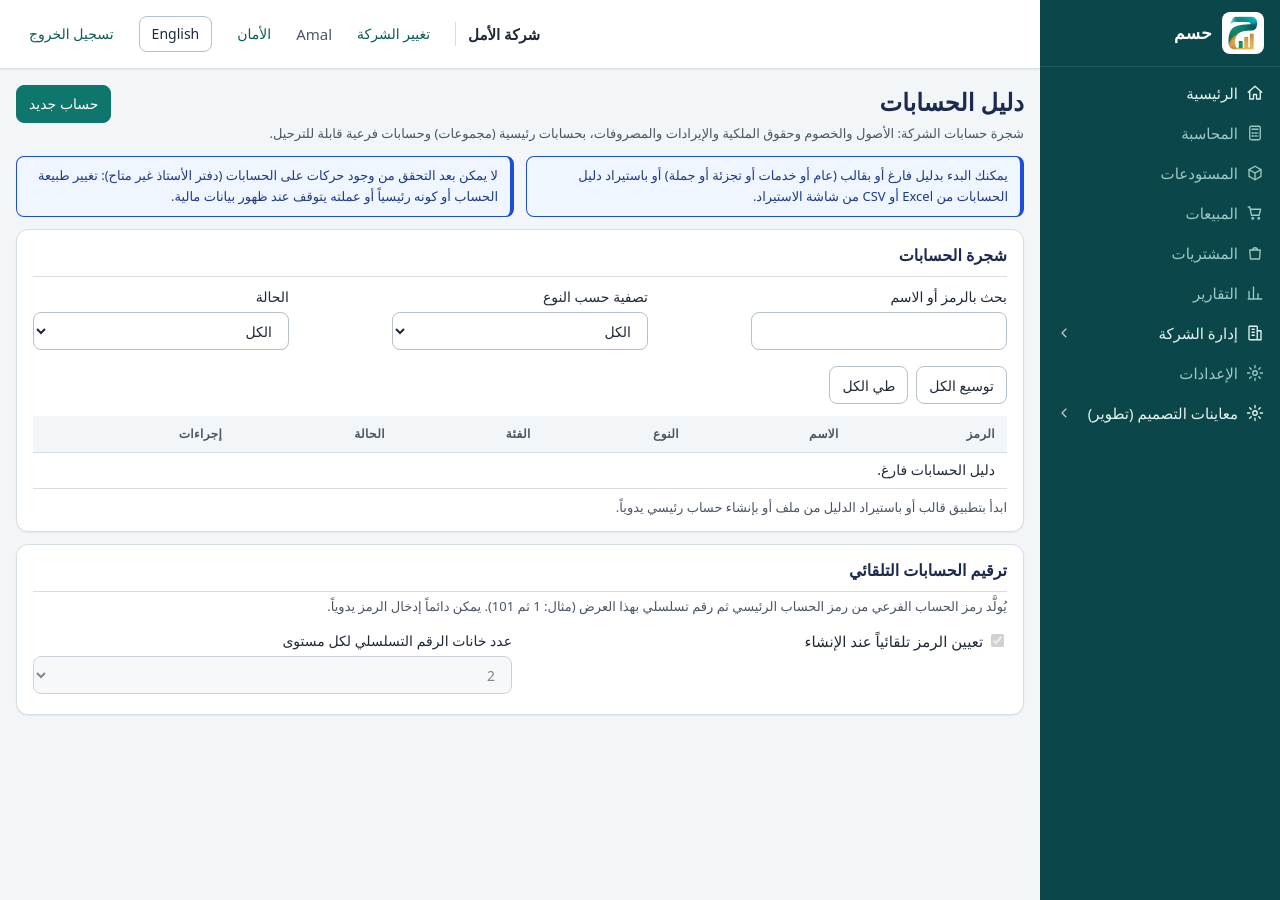
Test case: MFA step-up dialog › a stale proof opens the dialog, a good code repeats the SAME request once and the action completes without ending the session
Expected: the element with test id "company-name" is shown, [455, 22, 540, 46]
Step 1. Click the button "حساب جديد" → (64, 104), box [16, 85, 112, 123]
(page scrolled)
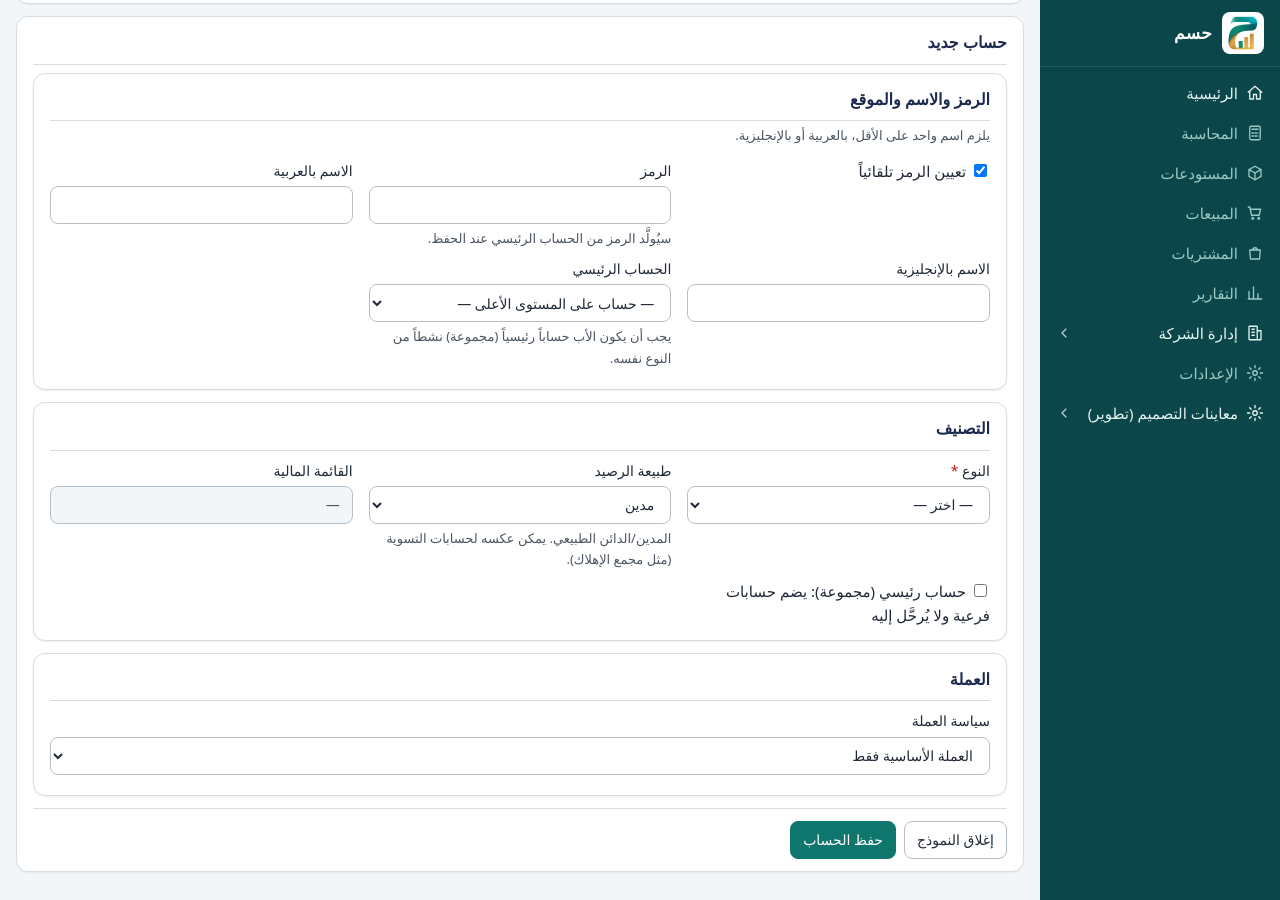
Step 2. Select "خصوم" in the dropdown labelled "النوع *" → (839, 505), box [687, 486, 990, 524]
Step 3. Type "الخصوم" into the field labelled "الاسم بالعربية" → (201, 205), box [50, 186, 353, 224]
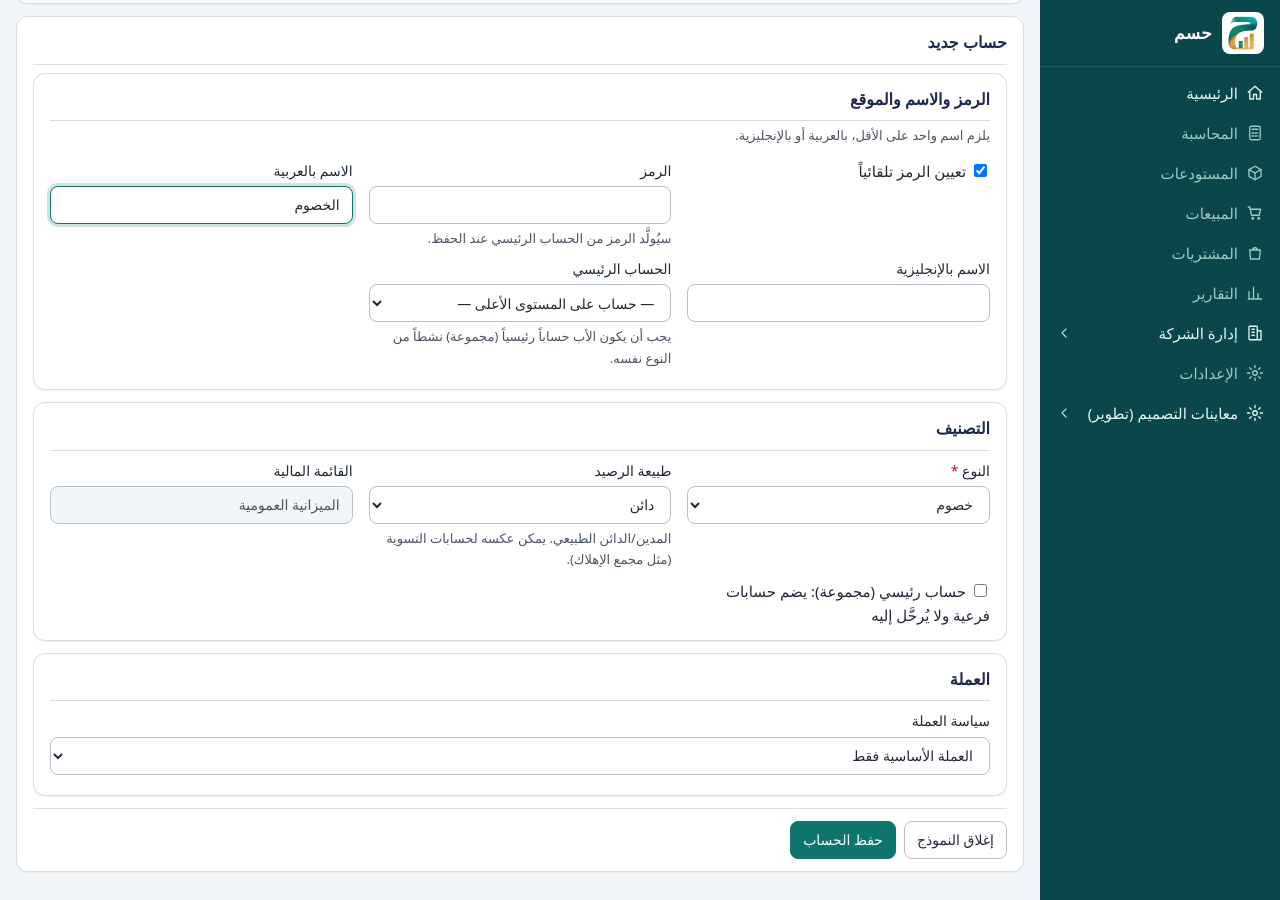
Step 4. Click the checkbox labelled "حساب رئيسي (مجموعة): يضم حسابات فرعية ولا يُرحَّل إليه" → (980, 590), box [974, 584, 987, 596]
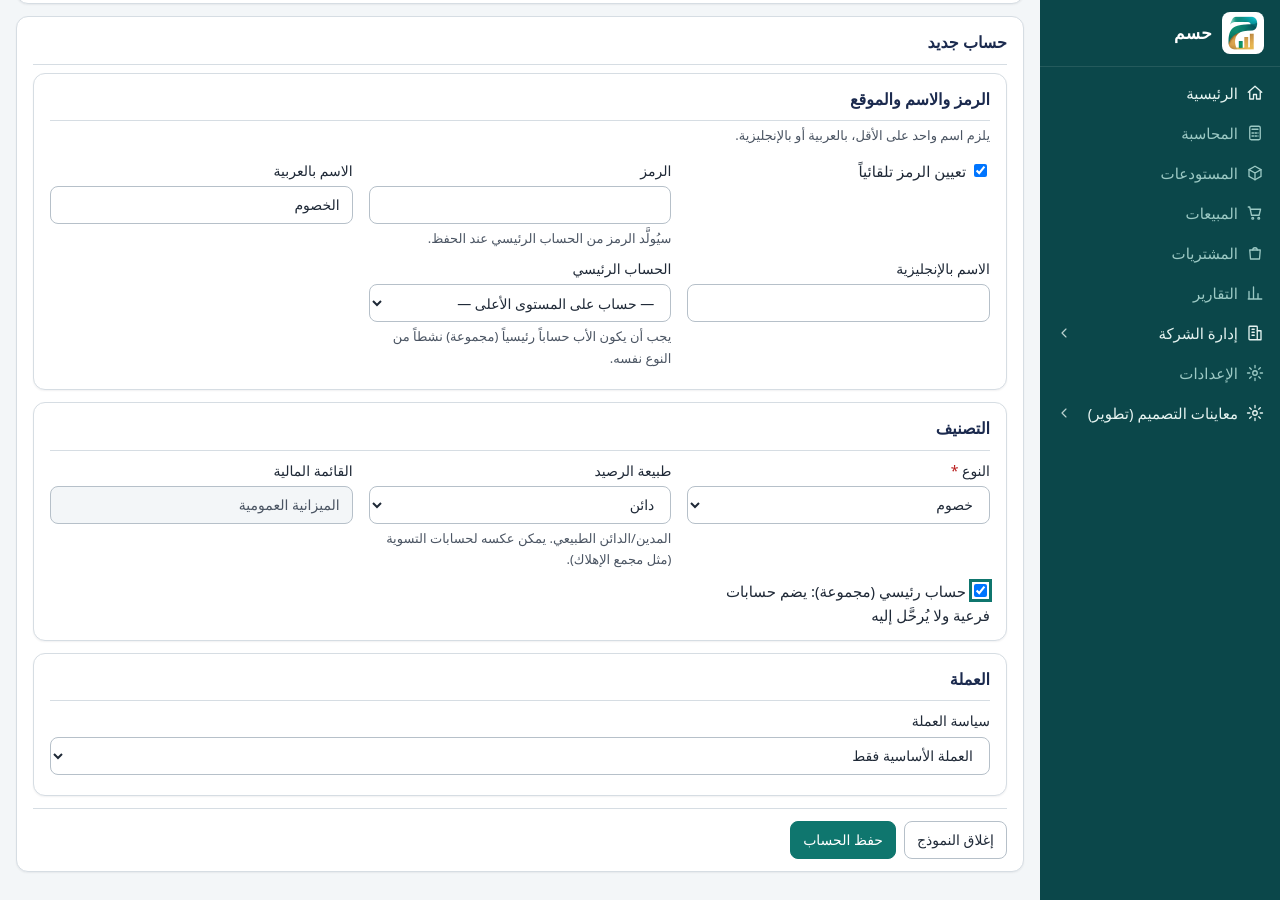
Step 5. Click the button "حفظ الحساب" → (843, 840), box [790, 820, 896, 858]
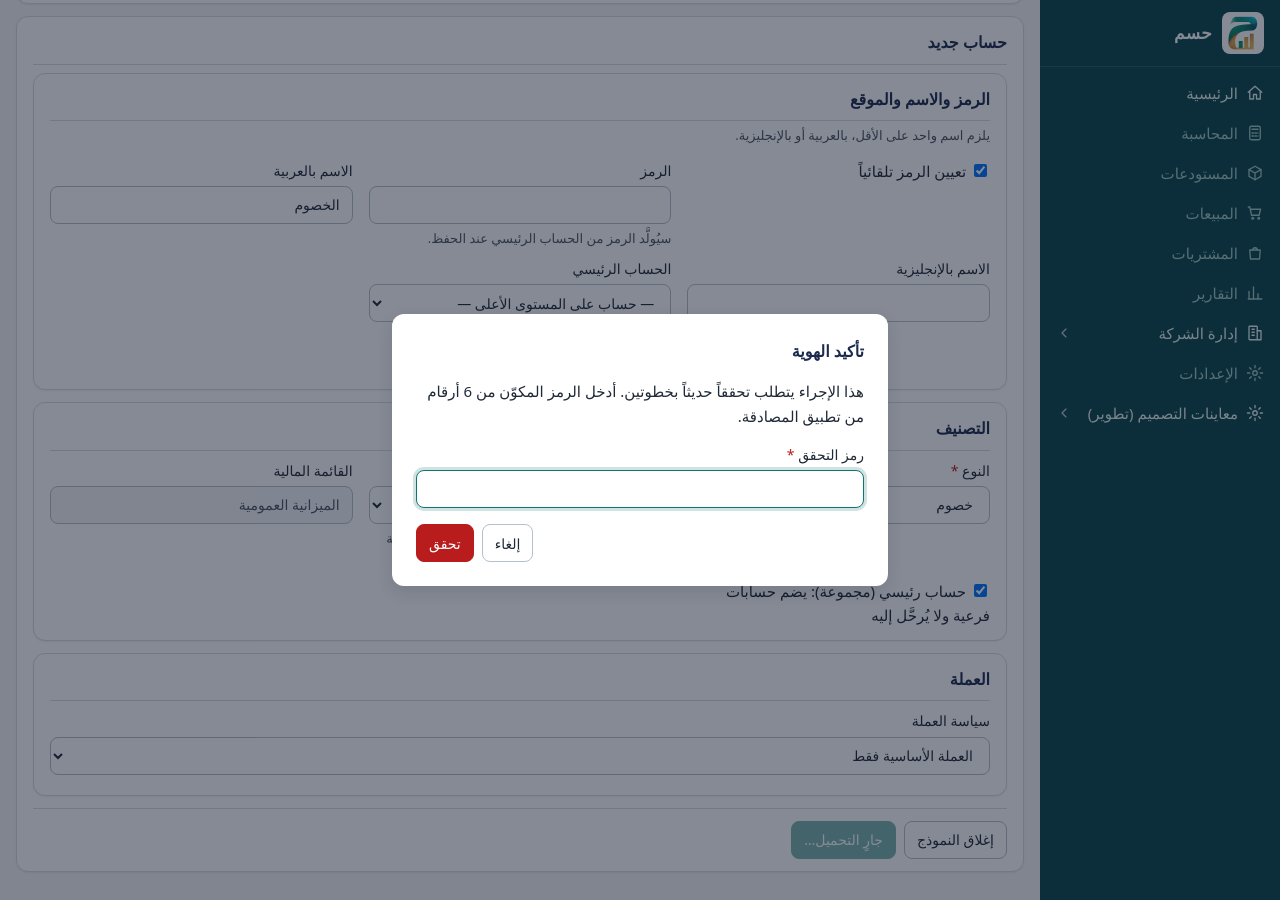
Now the heading "تأكيد الهوية" is shown, box [792, 340, 864, 362]
Now the text "هذا الإجراء يتطلب تحققاً حديثاً بخطوتين. أدخل الرمز المكوّن من 6 أرقام من تطبيق المصادقة." is shown, box [427, 381, 864, 426]
Step 6. Type "123456" into the field labelled "رمز التحقق *" → (640, 490), box [416, 470, 864, 508]
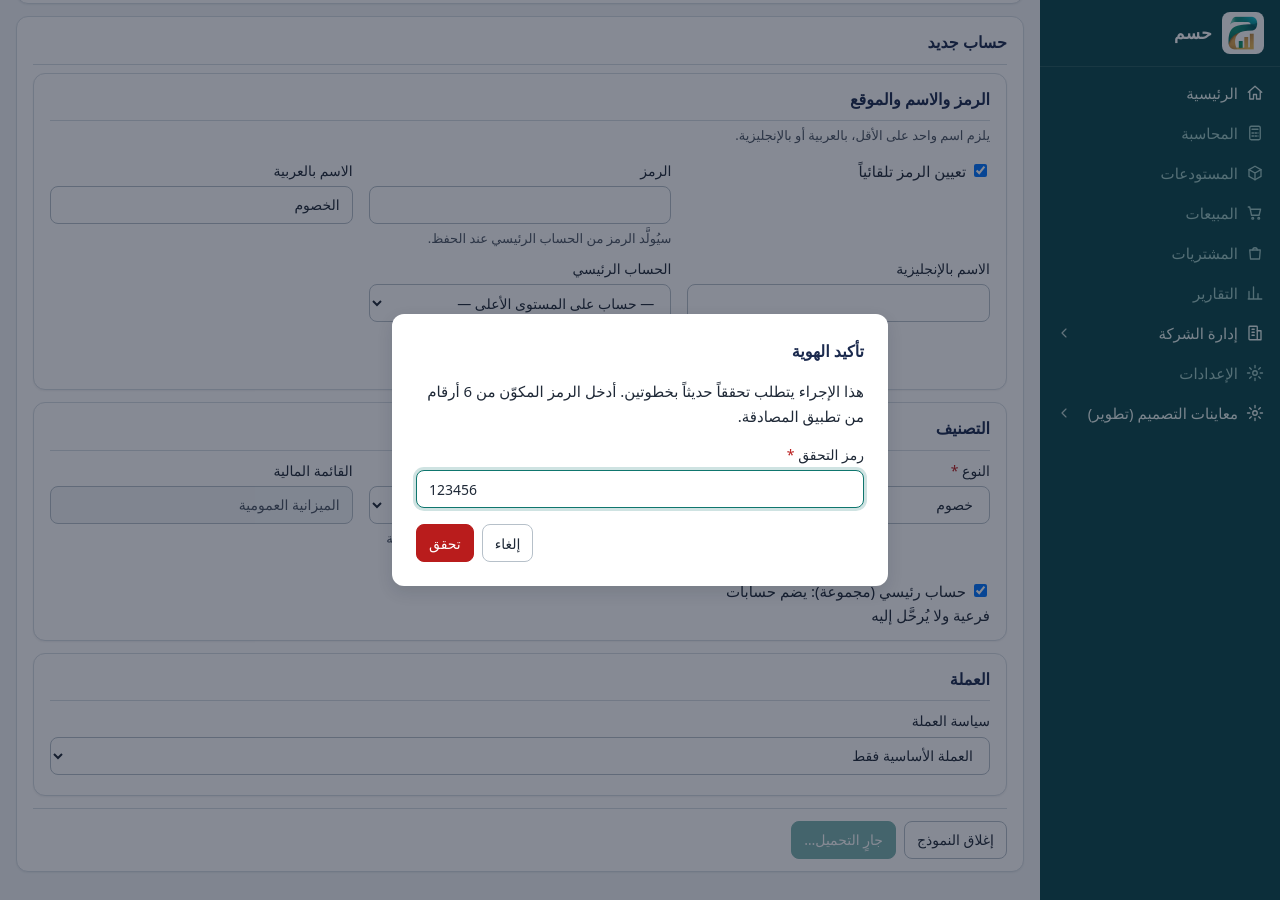
Step 7. Click the button "تحقق" → (445, 544), box [416, 524, 474, 562]
(page scrolled)
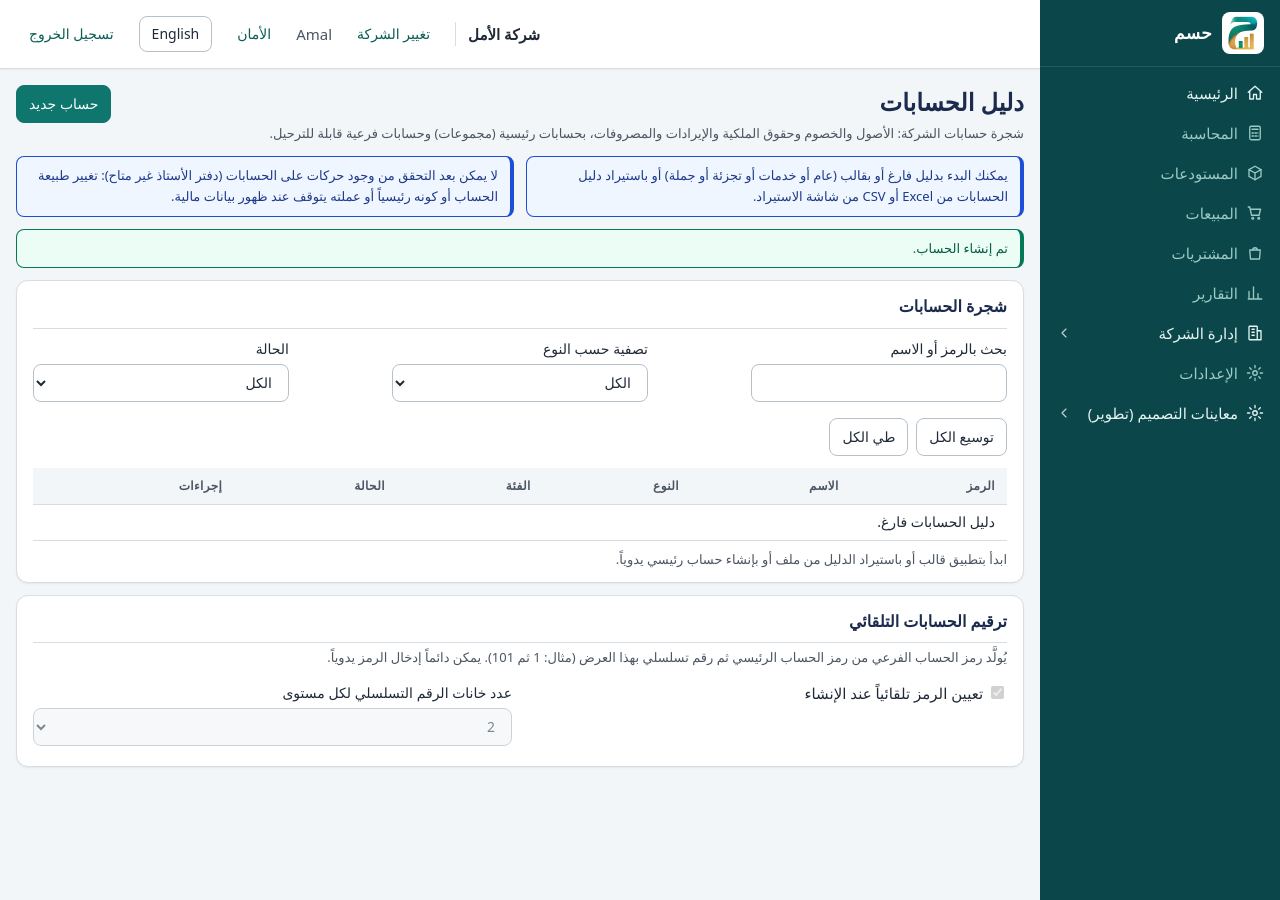
Expected: the element with test id "company-name" is shown, [455, 22, 540, 46]
Now the message with test id "saved" reads "تم إنشاء الحساب.", box [913, 239, 1008, 257]
Now the dialog is gone
